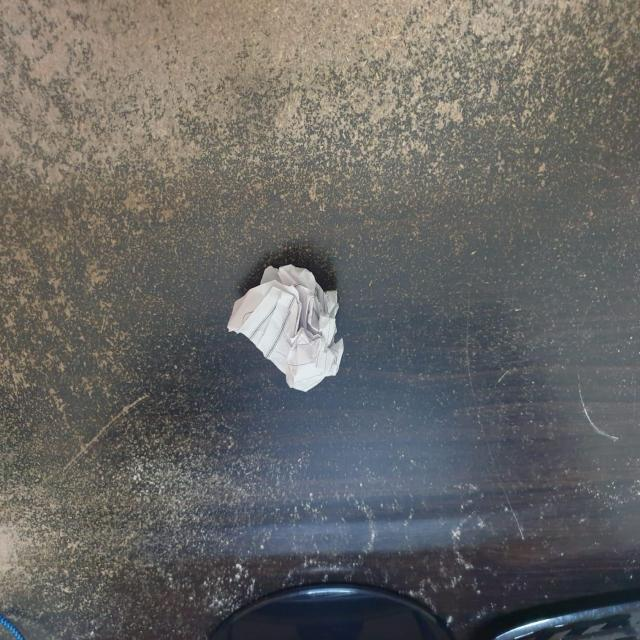kertas: (222, 252, 342, 390)
